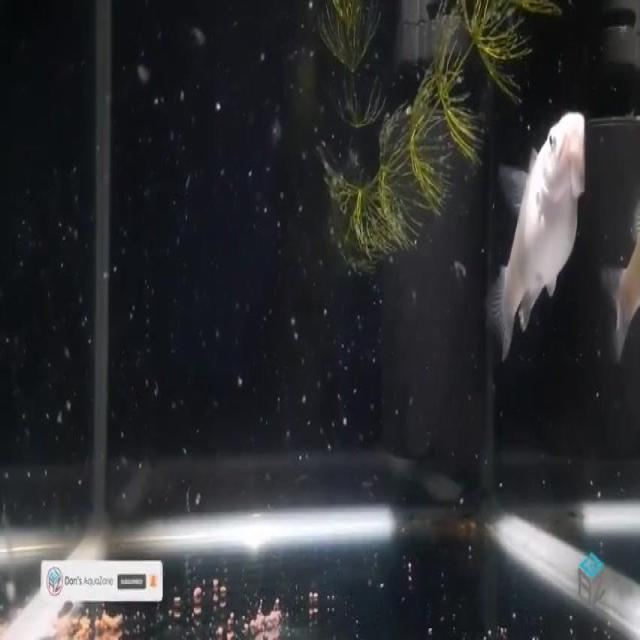PlatyFish: (480, 92, 595, 396)
